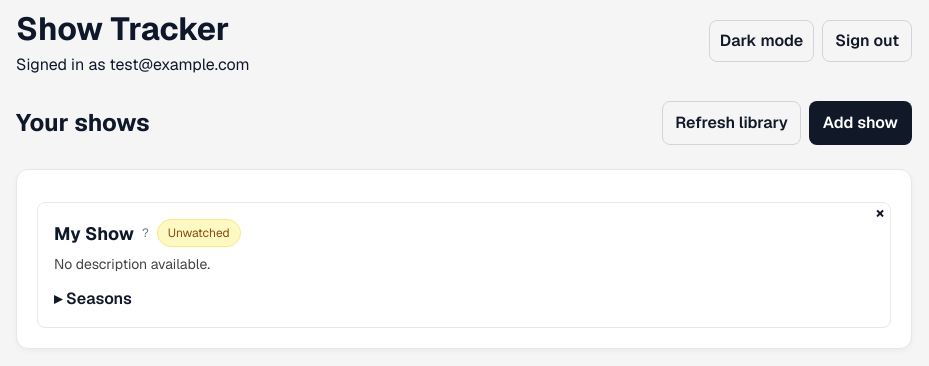
Scenario: Show interactions › removes a show and clears it from the list
Check: the text "My Show" is shown, box [54,220,134,246]
Click the button named "Remove My Show": (880, 213) [866,199,894,227]
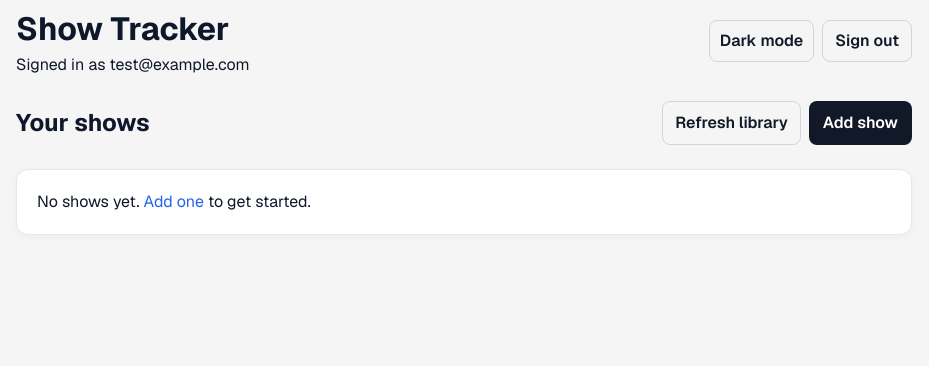
Check: the text "My Show" is gone
